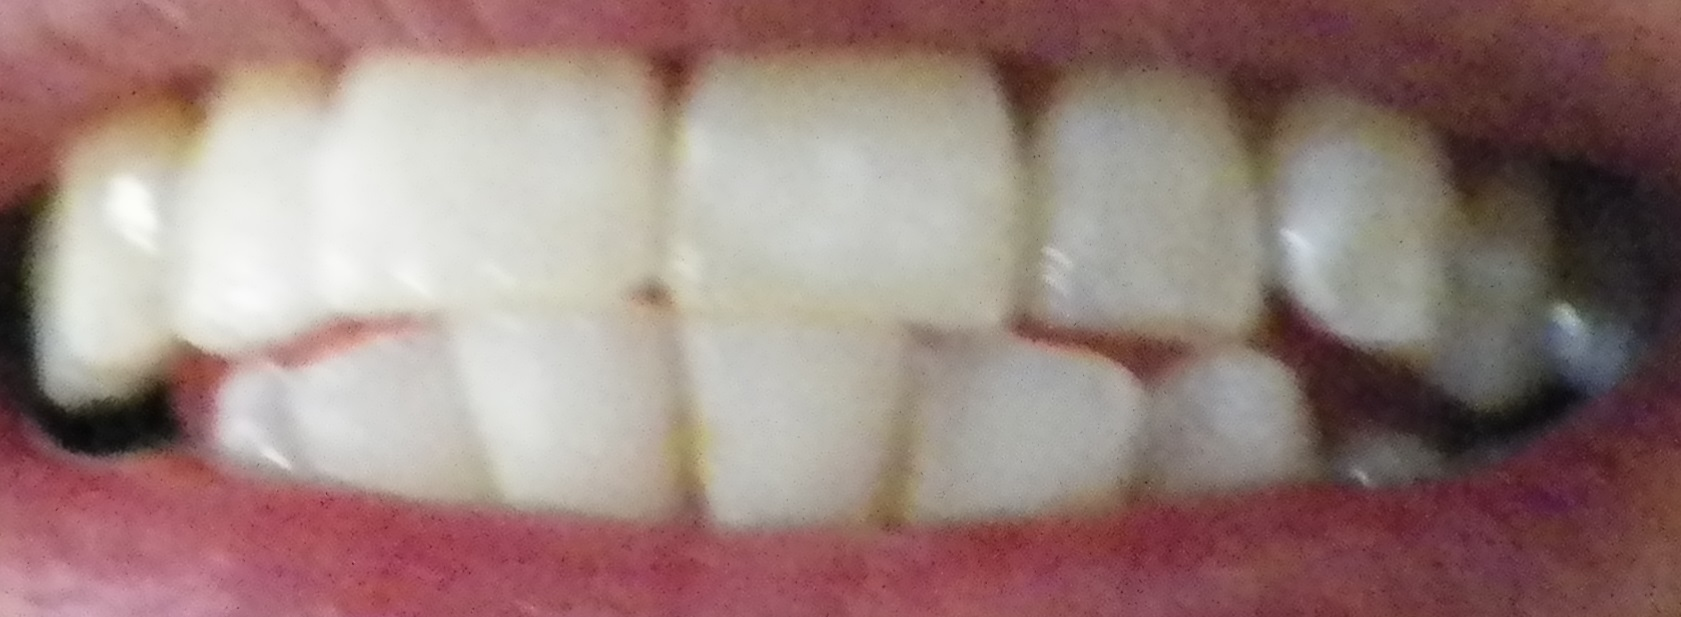boca: (16, 52, 1594, 510)
